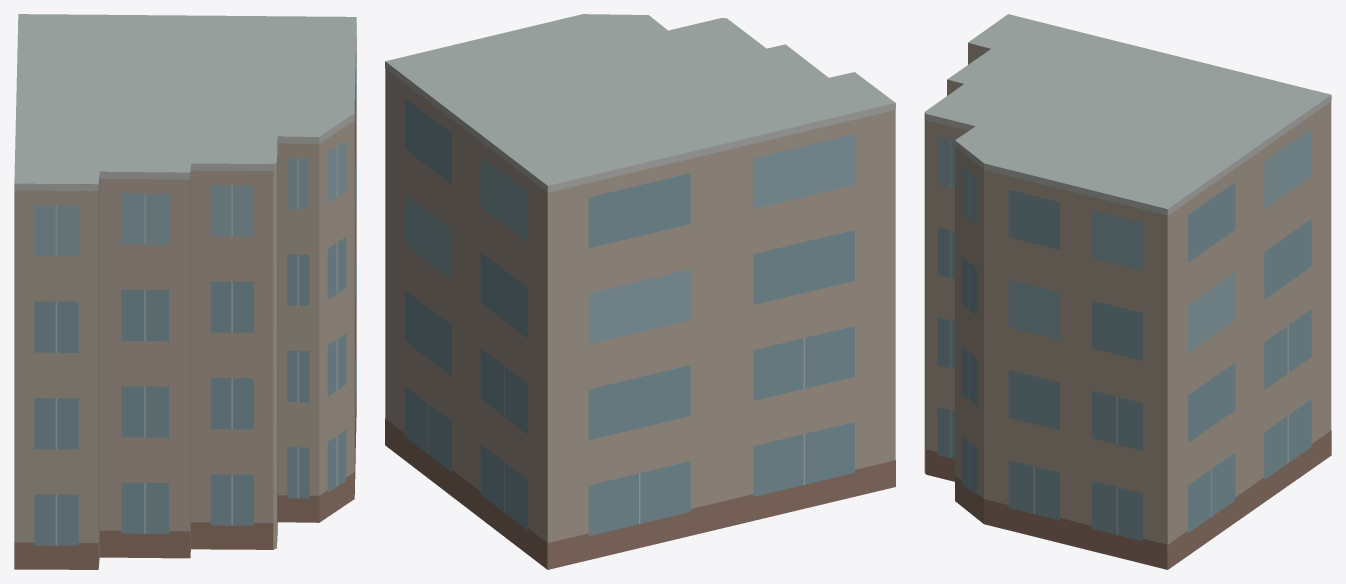
Rendered from survey-upis-32777485.glb.
The picture shows the model from 3 angles, left to right: view 1: azimuth 30°, elevation 25°; view 2: azimuth 150°, elevation 25°; view 3: azimuth 270°, elevation 25°; orthographic projection. The views are drawn at different scales.
Parts seen in each view (by area): view 1: survey-upis-32777485.tmp; view 2: survey-upis-32777485.tmp; view 3: survey-upis-32777485.tmp.
Boxes of the visible parts, x1,y1,x2,y2 form: survey-upis-32777485.tmp: [14, 14, 356, 569]; survey-upis-32777485.tmp: [385, 14, 895, 569]; survey-upis-32777485.tmp: [924, 14, 1331, 569].
Size of the model in its own units: 15.79 by 13.6 by 13.91.
